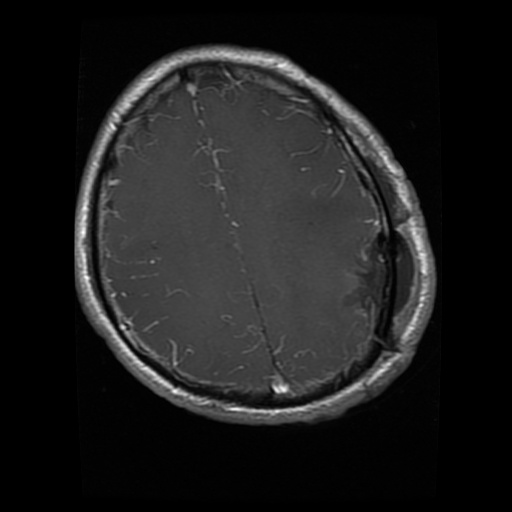glioma: (342, 226, 417, 316)
